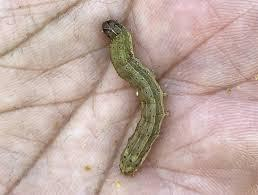fallarmy_worm: (90, 16, 168, 180)
